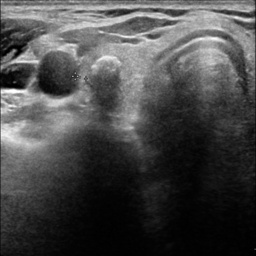mass: (89, 57, 127, 116)
